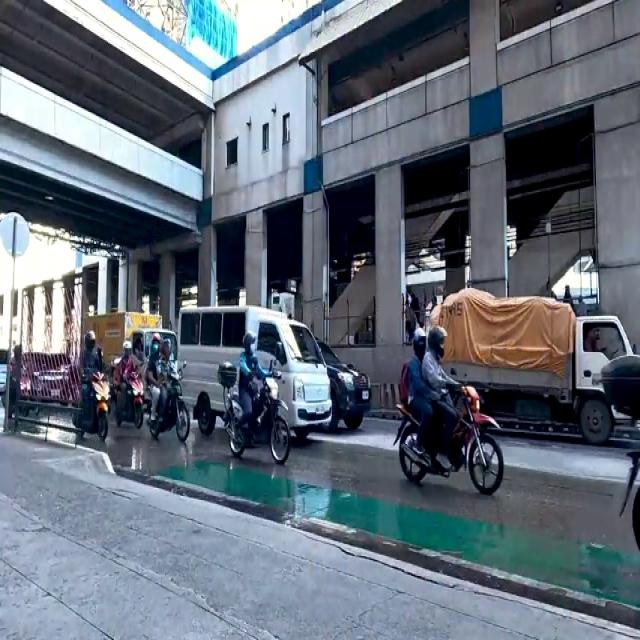car: (181, 304, 331, 442)
motorcycle: (392, 328, 503, 492), (223, 328, 306, 480), (70, 331, 114, 445), (148, 334, 192, 444), (112, 354, 145, 436)
truck: (436, 291, 638, 437), (87, 308, 180, 404)
